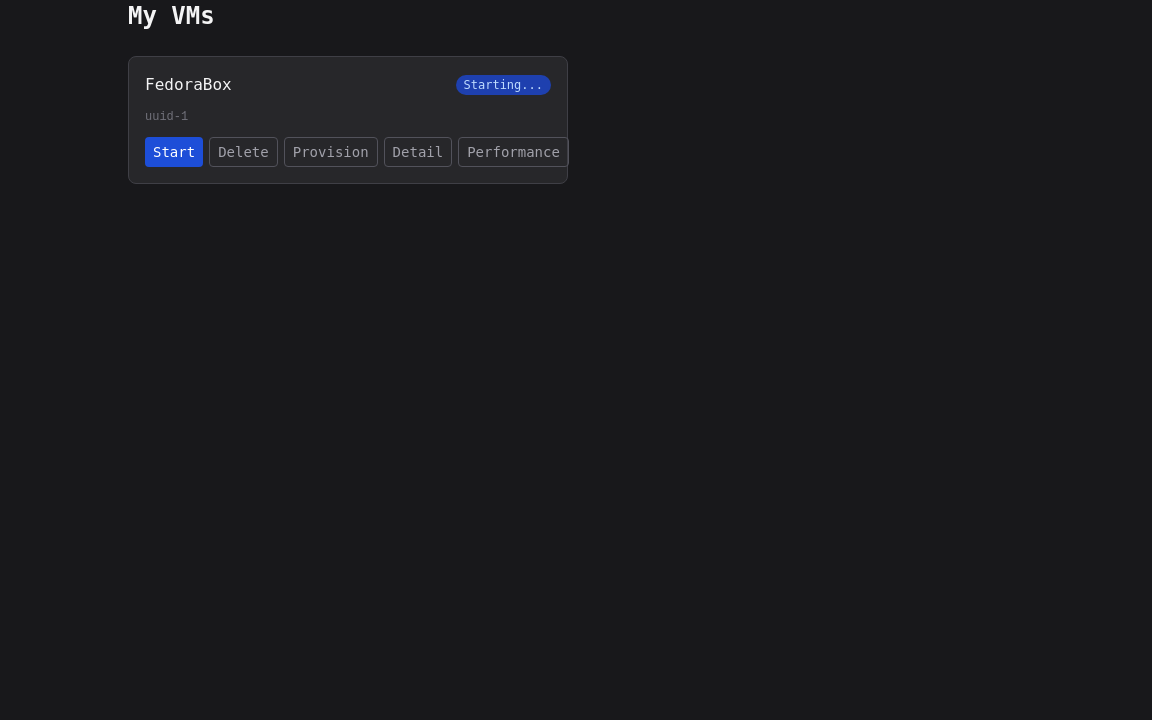
Test case: delete confirmation › shows a delete confirmation modal after clicking Delete
The image size is (1152, 720).
Click the button "Delete" at {"x": 244, "y": 152}, box [209,137,278,167]
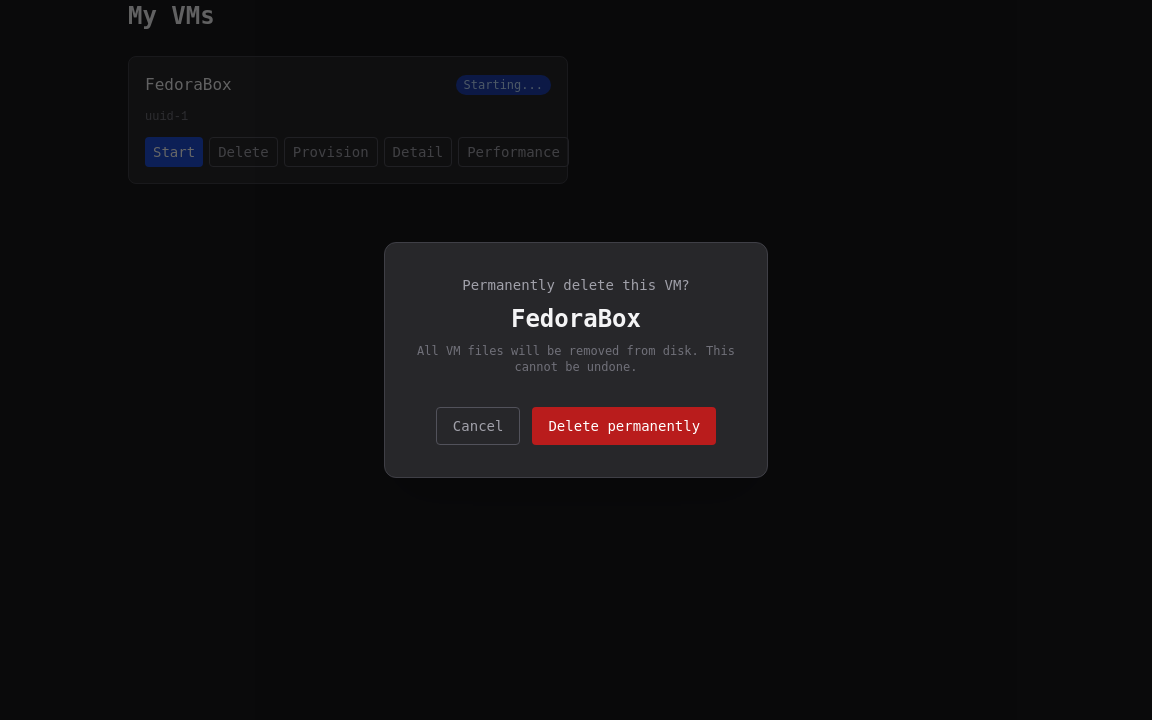
Expected: the button "Delete permanently" is shown, [532,407,716,445]
Expected: the button "Cancel" is shown, [436,407,520,445]
